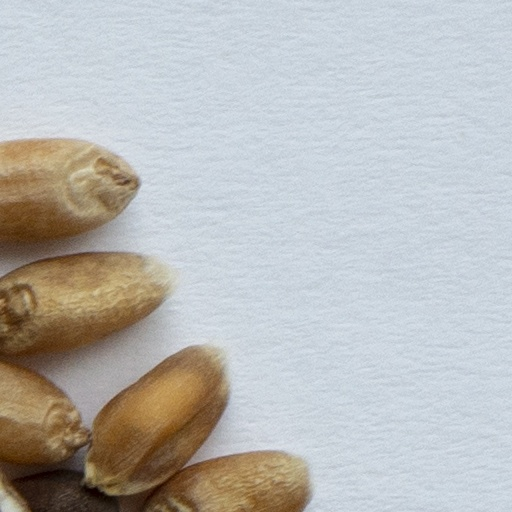Convolvulus-poly: (13, 471, 117, 511)
